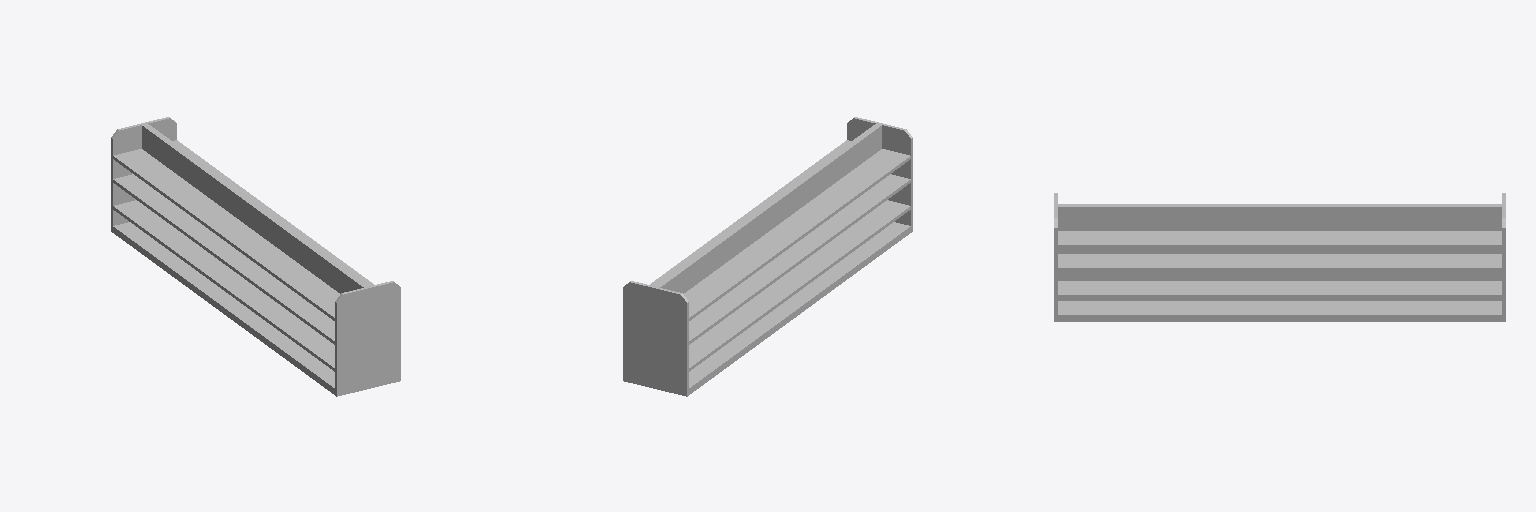
The model's file is shelves.obj.
3 views of the same model, side by side, from view 1: azimuth 30°, elevation 25°; view 2: azimuth 150°, elevation 25°; view 3: azimuth 270°, elevation 25° (orthographic).
Visible parts, largest first — view 1: Cube; view 2: Cube; view 3: Cube.
Part boxes in pixels (x1,y1,x2,y2): Cube: (111,117,400,396); Cube: (623,117,912,396); Cube: (1054,193,1505,321).
Bounding box in the file's own units: 2 × 3 × 12.2.